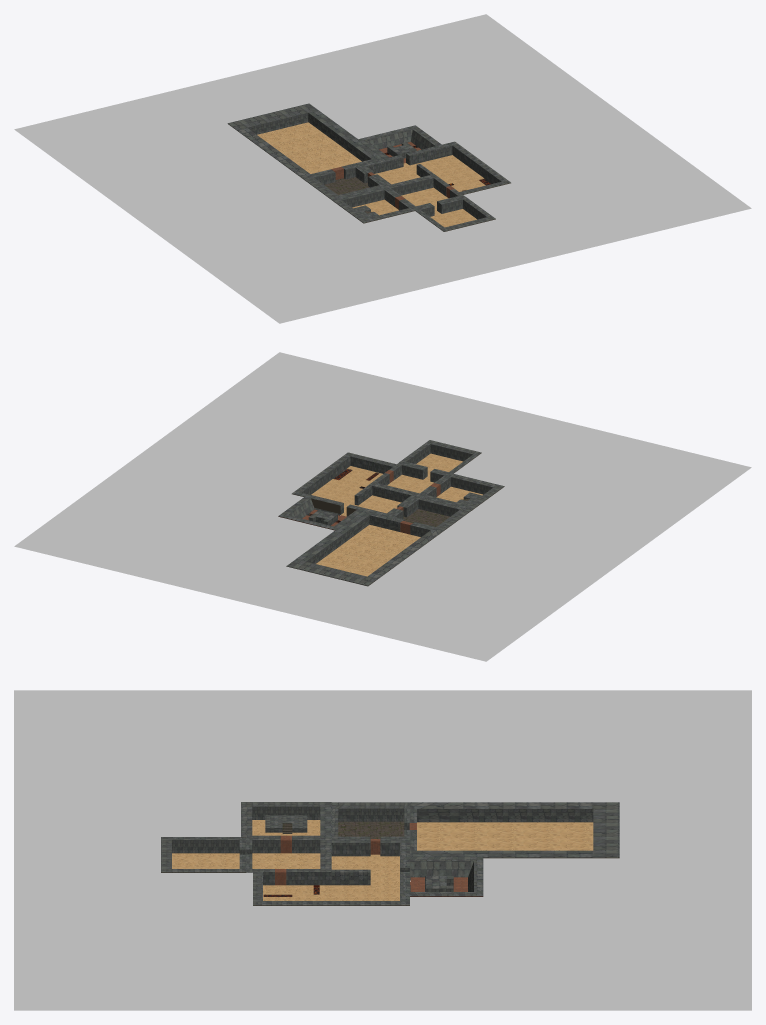
Rendered from Level2Map.fbx.
The picture shows the model from 3 angles, top to bottom: view 1: azimuth 30°, elevation 25°; view 2: azimuth 150°, elevation 25°; view 3: azimuth 270°, elevation 25°; orthographic projection. The views are drawn at different scales.
Parts seen in each view (by area): view 1: BorderMap, Cube.001; view 2: BorderMap, Cube.001; view 3: BorderMap, Cube.001.
Boxes of the visible parts, box(x1,y1,x2,y2) form: BorderMap: box(14, 14, 751, 323); Cube.001: box(227, 103, 510, 231); BorderMap: box(14, 352, 751, 661); Cube.001: box(278, 440, 504, 586); BorderMap: box(14, 690, 751, 1010); Cube.001: box(161, 802, 619, 905).
Size of the model in its own units: 16305 by 389 by 15876.
